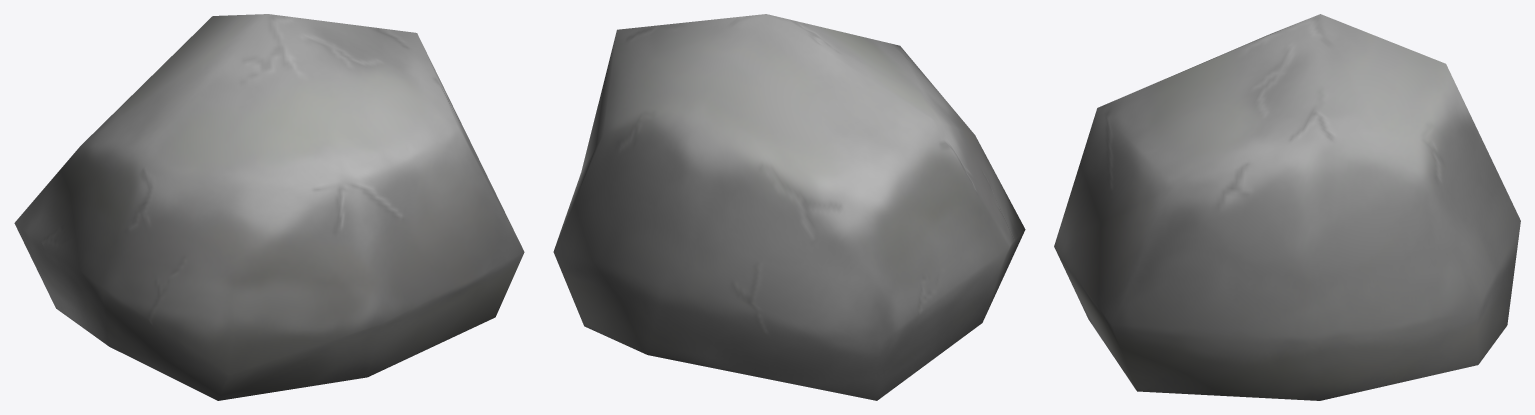
The model's file is Stone01.fbx.
The picture shows the model from 3 angles, left to right: view 1: azimuth 30°, elevation 25°; view 2: azimuth 150°, elevation 25°; view 3: azimuth 270°, elevation 25°; orthographic projection. The views are drawn at different scales.
Parts seen in each view (by area): view 1: Stone01; view 2: Stone01; view 3: Stone01.
Boxes of the visible parts, x1,y1,x2,y2 form: Stone01: [14, 14, 524, 400]; Stone01: [553, 14, 1025, 400]; Stone01: [1054, 14, 1520, 400].
Bounding box in the file's own units: 116 × 84.87 × 112.
